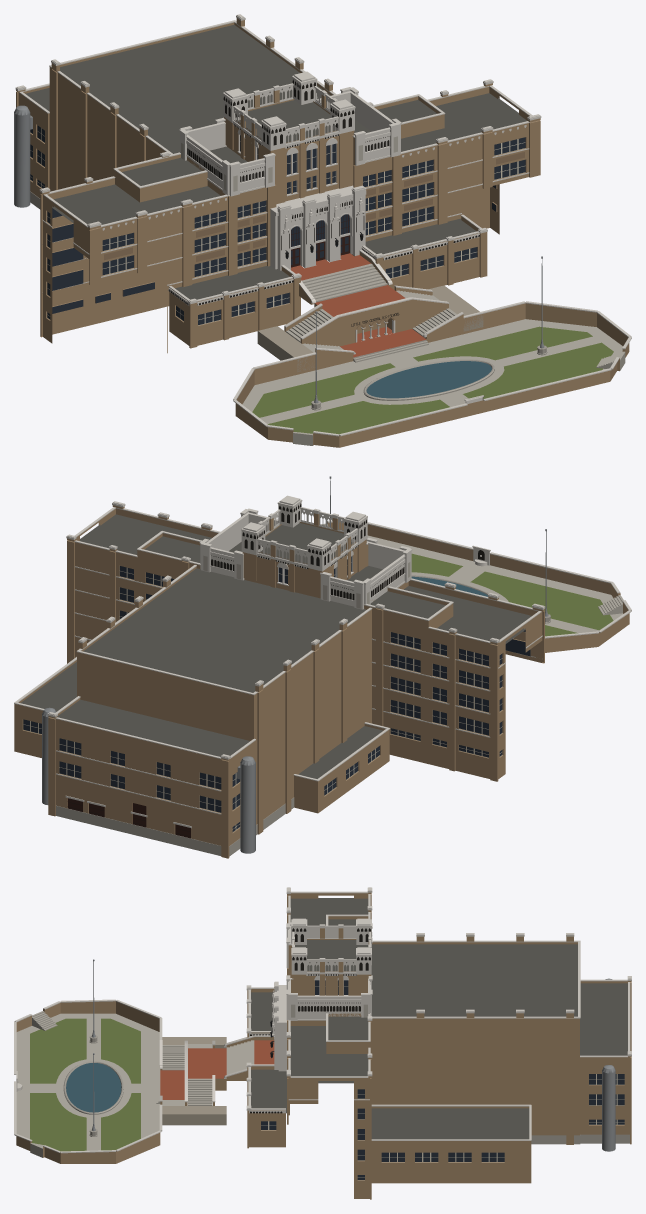
The model's file is central-high-school.glb.
3 renders of one model, top to bottom at view 1: azimuth 30°, elevation 25°; view 2: azimuth 150°, elevation 25°; view 3: azimuth 270°, elevation 25°, orthographic. The views are drawn at different scales.
Parts seen in each view (by area): view 1: central_brick, central_roof, central_stone, central_paving, central_grass, central_glass, central_tile, central_water, central_sash, central_walk, central_metal, central_shadow (+3 smaller); view 2: central_brick, central_roof, central_stone, central_glass, central_grass, central_paving, central_conc, central_metal, central_sash, central_shadow, central_door; view 3: central_brick, central_roof, central_stone, central_paving, central_grass, central_tile, central_glass, central_water, central_walk, central_metal, central_conc, central_shadow (+1 smaller).
Boxes of the visible parts, bbox=[...] form: central_brick: bbox=[16, 18, 629, 447]; central_roof: bbox=[25, 24, 526, 299]; central_stone: bbox=[15, 14, 631, 436]; central_paving: bbox=[181, 136, 625, 445]; central_grass: bbox=[252, 326, 613, 434]; central_glass: bbox=[30, 125, 525, 324]; central_tile: bbox=[291, 253, 426, 357]; central_water: bbox=[366, 361, 491, 398]; central_sash: bbox=[30, 128, 525, 325]; central_walk: bbox=[257, 285, 483, 371]; central_metal: bbox=[14, 105, 544, 403]; central_shadow: bbox=[169, 79, 479, 326]; central_brick: bbox=[14, 505, 629, 858]; central_roof: bbox=[20, 514, 531, 778]; central_stone: bbox=[14, 495, 631, 828]; central_glass: bbox=[23, 556, 530, 831]; central_grass: bbox=[411, 553, 613, 636]; central_paving: bbox=[203, 523, 623, 632]; central_conc: bbox=[56, 575, 550, 856]; central_metal: bbox=[42, 476, 548, 853]; central_sash: bbox=[23, 562, 502, 831]; central_shadow: bbox=[67, 503, 484, 836]; central_door: bbox=[67, 798, 190, 838]; central_brick: bbox=[16, 892, 631, 1199]; central_roof: bbox=[251, 898, 627, 1139]; central_stone: bbox=[14, 887, 631, 1153]; central_paving: bbox=[16, 1004, 367, 1157]; central_grass: bbox=[30, 1018, 140, 1151]; central_tile: bbox=[160, 1040, 274, 1099]; central_glass: bbox=[261, 980, 624, 1179]; central_water: bbox=[66, 1063, 121, 1112]; central_walk: bbox=[162, 1037, 226, 1125]; central_metal: bbox=[91, 959, 615, 1151]; central_conc: bbox=[63, 1035, 629, 1144]; central_shadow: bbox=[250, 928, 370, 1113].
Size of the model in its own units: 79.94 by 33.95 by 112.
